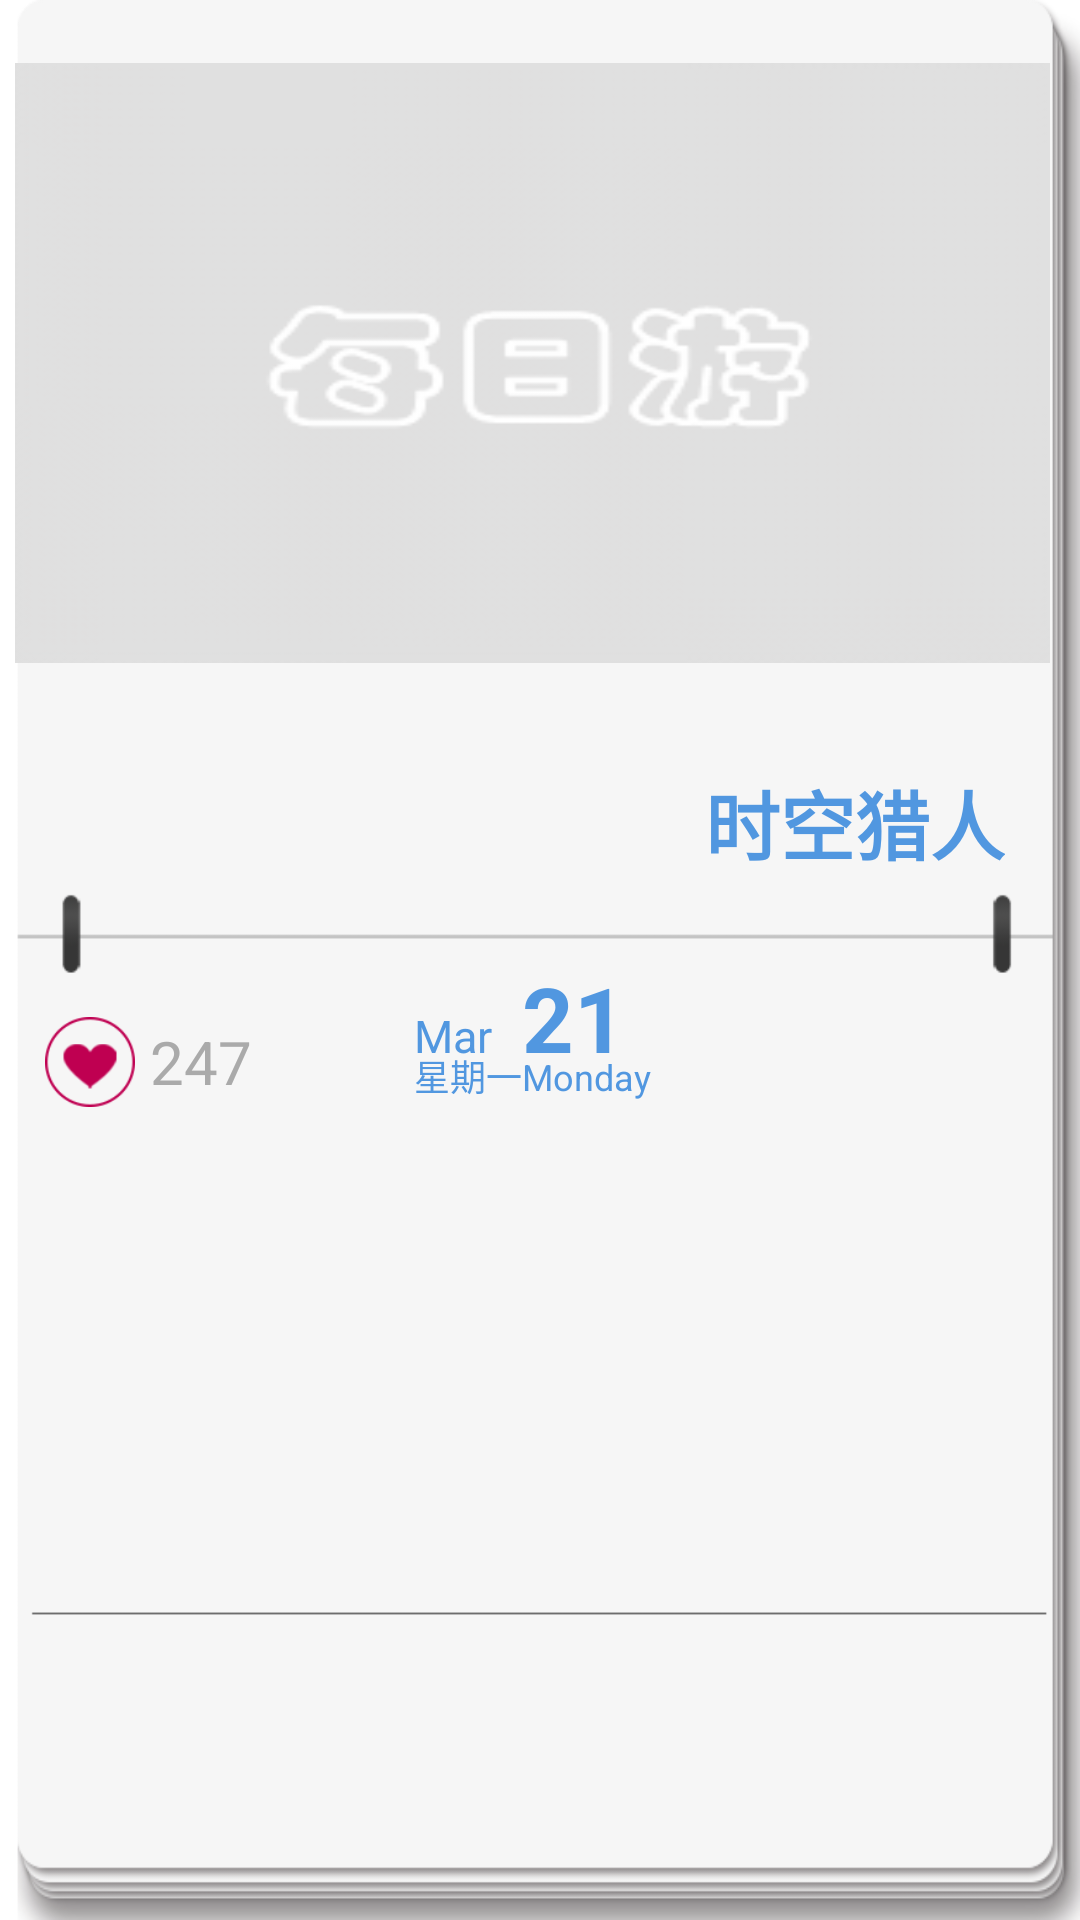

Locate icon controls on the screen. Image size 1080 × 1920, boxes as bbox=[x1, y1, x2, y2].
detail praise: bbox=[45, 1017, 135, 1107]
